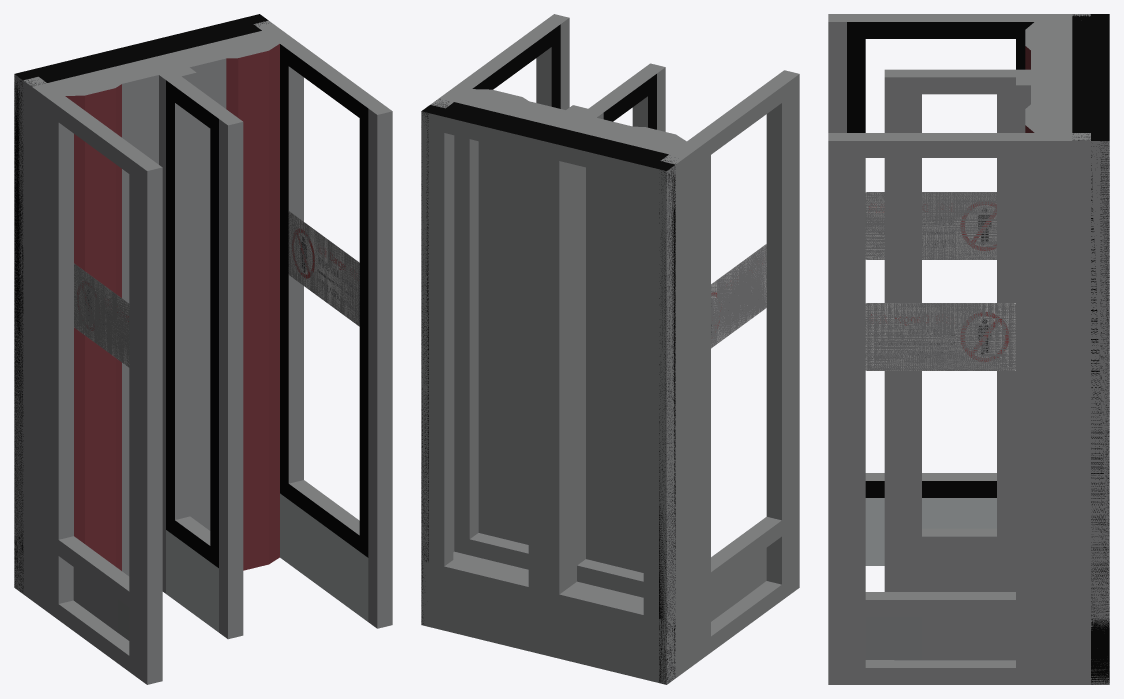
File: kaba.obj
3 renders of one model, left to right at view 1: azimuth 30°, elevation 25°; view 2: azimuth 150°, elevation 25°; view 3: azimuth 270°, elevation 25°, orthographic. The views are drawn at different scales.
Parts seen in each view (by area): view 1: g_rse, g_lle, g_rle, g_lse, g_ld, g_lde, r_c, l_c, l_eb, g_rde, r_eb, g_rg (+2 smaller); view 2: g_lle, l_c, r_c, g_rse, g_lse, g_rd, r_ea, g_ld, g_lde, l_ea, l_eb, g_rle (+4 smaller); view 3: g_rle, g_rse, g_lle, g_rd, g_rde, r_c, r_eb, l_c, g_lde, l_eb, g_rg, g_lse (+4 smaller).
Part boxes in pixels (bbox=[...]): g_rse: bbox=[65, 58, 243, 639]; g_lle: bbox=[23, 59, 162, 684]; g_rle: bbox=[255, 22, 392, 628]; g_lse: bbox=[165, 43, 279, 570]; g_ld: bbox=[23, 57, 162, 606]; g_lde: bbox=[32, 63, 171, 612]; r_c: bbox=[14, 14, 267, 592]; l_c: bbox=[14, 14, 268, 593]; l_eb: bbox=[23, 50, 154, 594]; g_rde: bbox=[164, 30, 294, 69]; r_eb: bbox=[146, 21, 268, 56]; g_rg: bbox=[156, 31, 284, 63]; g_lle: bbox=[564, 70, 799, 669]; l_c: bbox=[421, 105, 675, 684]; r_c: bbox=[421, 105, 675, 684]; g_rse: bbox=[563, 63, 685, 572]; g_lse: bbox=[472, 89, 587, 544]; g_rd: bbox=[431, 93, 569, 567]; r_ea: bbox=[544, 136, 664, 682]; g_ld: bbox=[562, 122, 693, 677]; g_lde: bbox=[571, 115, 702, 671]; l_ea: bbox=[429, 107, 549, 590]; l_eb: bbox=[553, 128, 684, 677]; g_rle: bbox=[430, 14, 569, 487]; g_rle: bbox=[828, 133, 1090, 684]; g_rse: bbox=[884, 22, 1072, 591]; g_lle: bbox=[828, 14, 1090, 565]; g_rd: bbox=[1053, 77, 1090, 684]; g_rde: bbox=[1034, 77, 1072, 684]; r_c: bbox=[1091, 14, 1109, 684]; r_eb: bbox=[1072, 77, 1090, 684]; l_c: bbox=[1091, 14, 1109, 684]; g_lde: bbox=[1034, 14, 1053, 77]; l_eb: bbox=[1072, 14, 1090, 77]; g_rg: bbox=[1053, 77, 1072, 684]; g_lse: bbox=[1016, 77, 1052, 132].
Size of the model in its own units: 1 by 2 by 0.9375.
5 materials, 5 textured.
